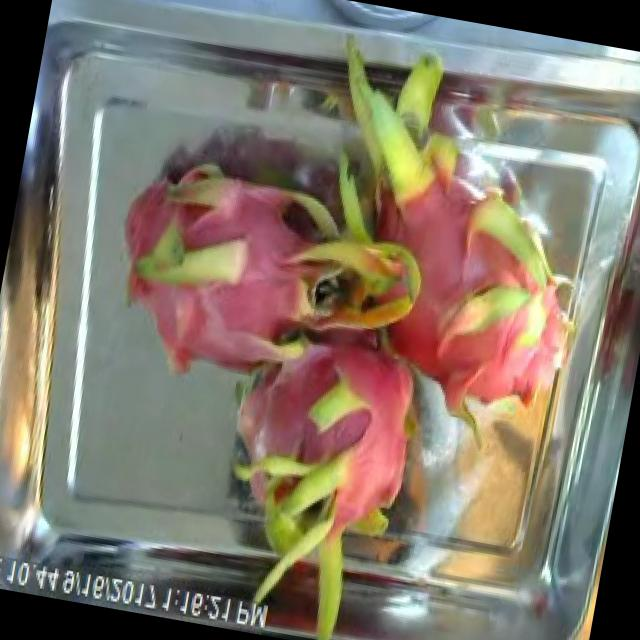Fruit: (208, 291, 398, 507)
